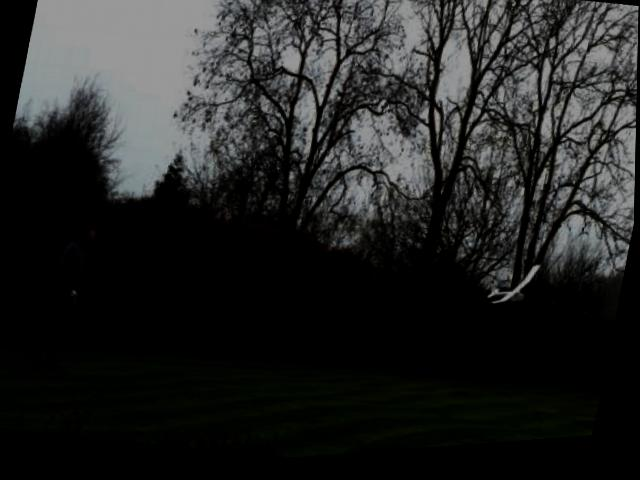uav: (479, 254, 553, 331)
